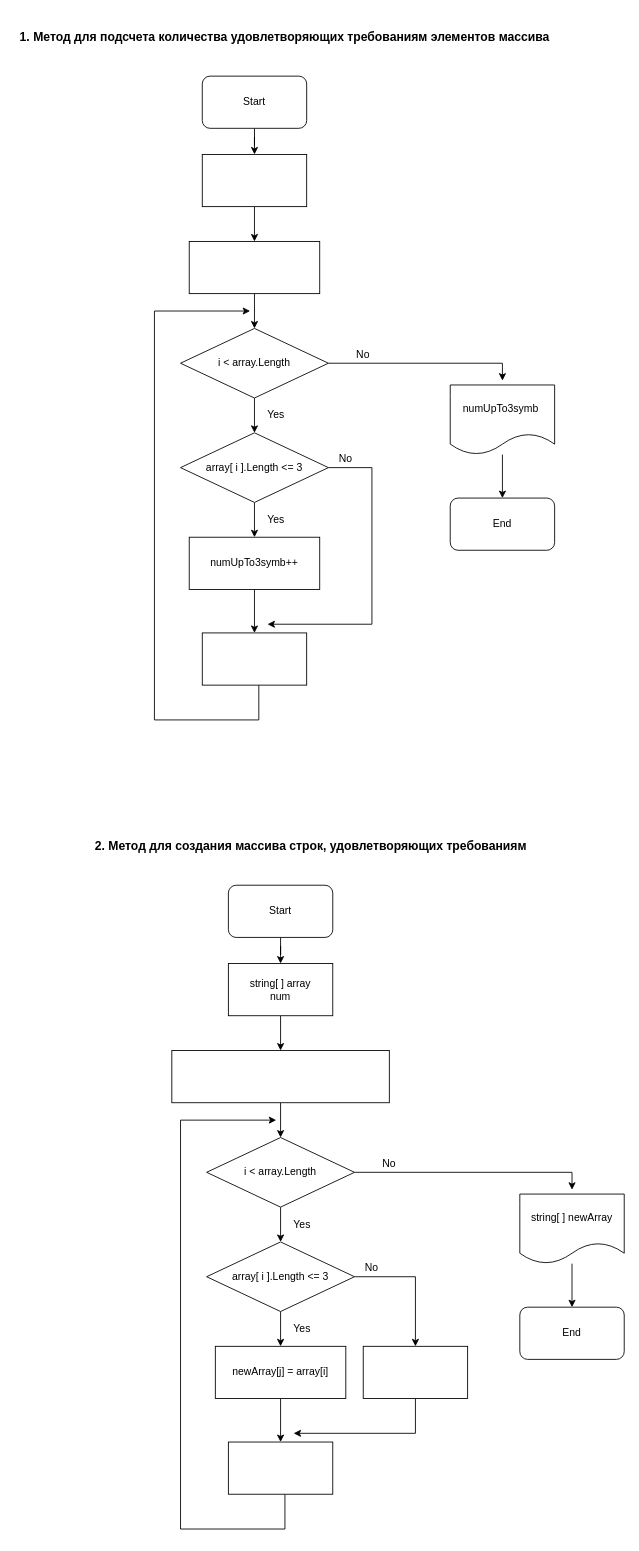
The diagram is 639 pixels wide and 1551 high, and some of its shapes have lost their labels. The shapes that lost their labels are listed below. From the top down, each one's centre as x and y in pixels, then its label:
At point 254,180: "string[ ] array".
At point 254,267: "i = 0 numUpTo3symb = 0".
At point 254,658: "i++".
At point 280,1076: "i = 0 j = 0 string[ ] newArray = new string[num]".
At point 415,1372: "j--".
At point 280,1467: "i++ j++".
